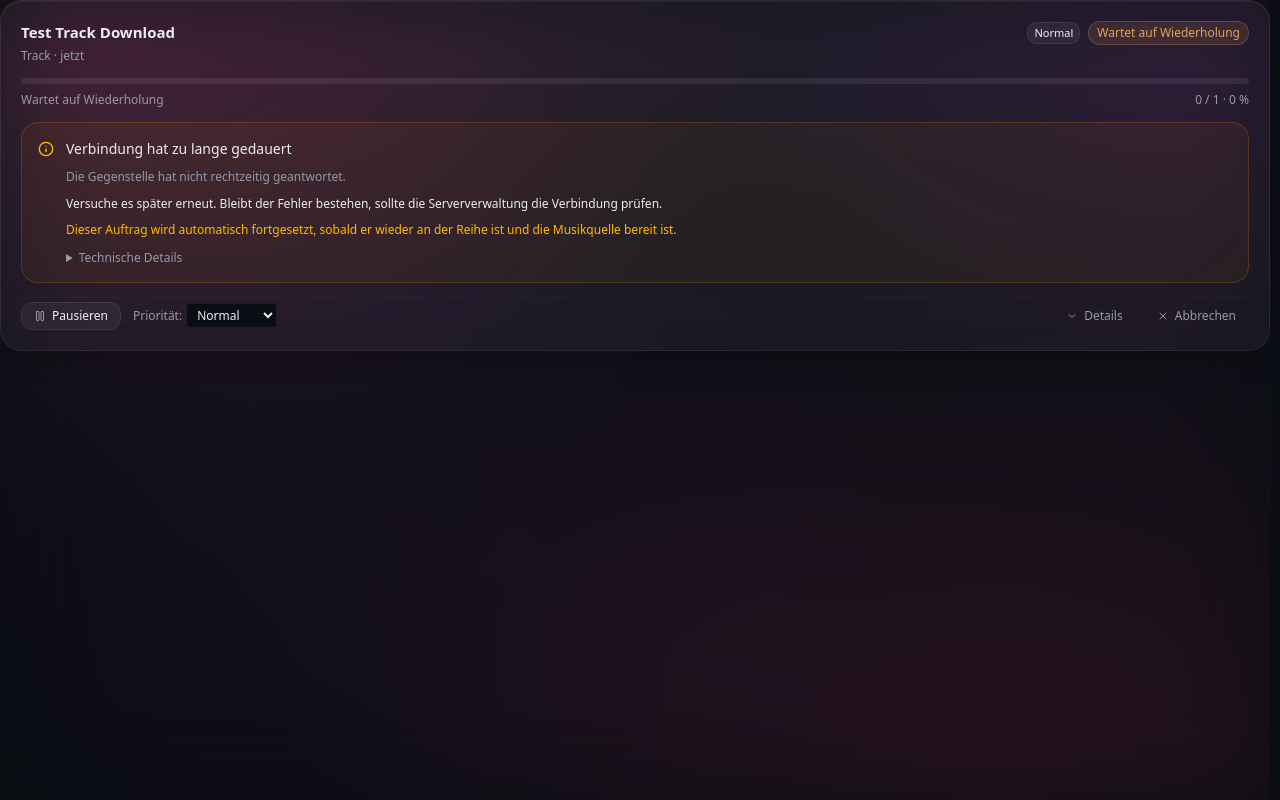
Test: JobCard – Step 4 Honest "Waiting for Provider" UX › 5. unrelated retry_wait preserves existing generic retry presentation and allows retry
Note: Expand details
Click the button "Details" at (1094, 316), box top-left (1053, 302), bottom-right (1136, 330)
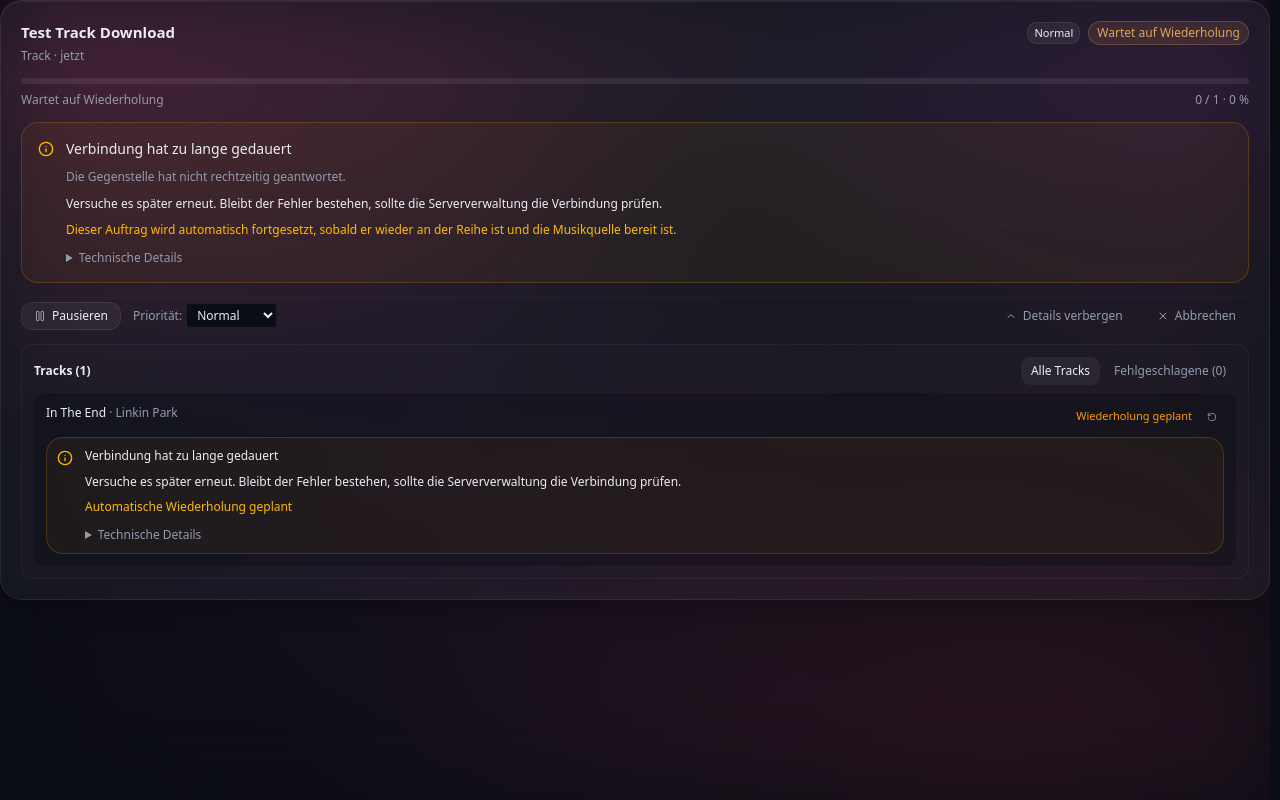
Now the text "Wiederholung geplant" is shown, box top-left (1076, 409), bottom-right (1192, 424)
Now the button titled "Track jetzt wiederholen" is shown, box top-left (1200, 404), bottom-right (1224, 428)
